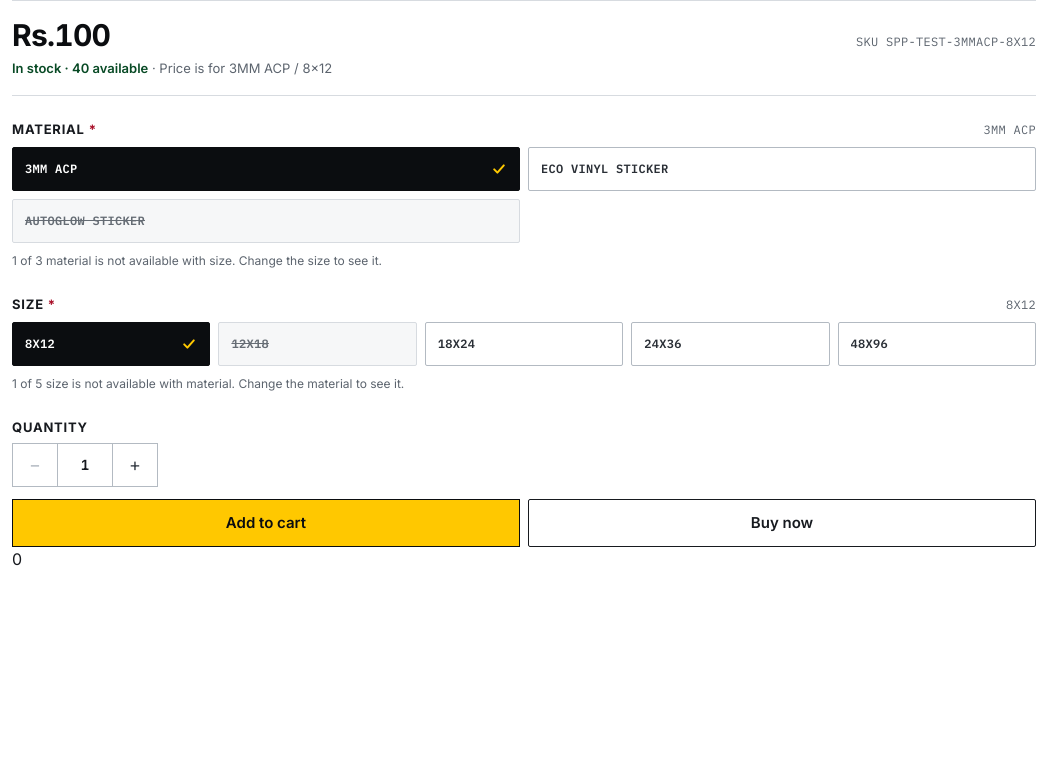
Test case: VariantSelector - add to cart › adds a quantity chosen with the stepper
Click the button named "Increase quantity". click: point(135, 465)
box: [113,444,157,486]
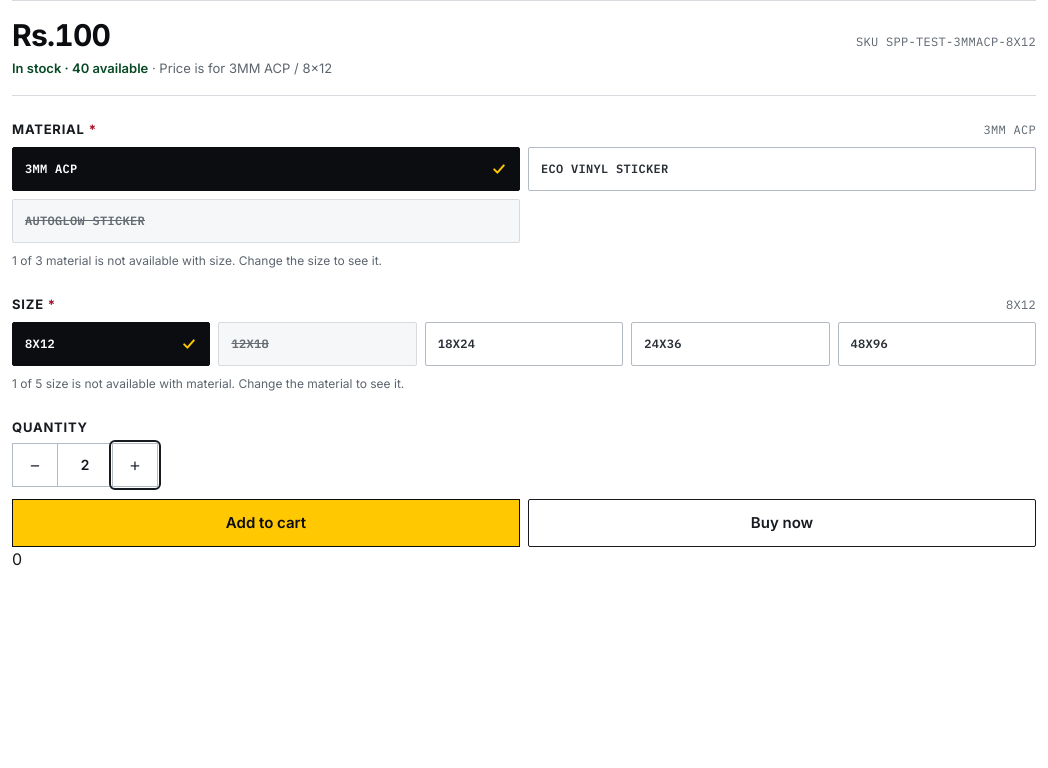
Click the button named "Increase quantity". click: point(135, 465)
box: [113,444,157,486]
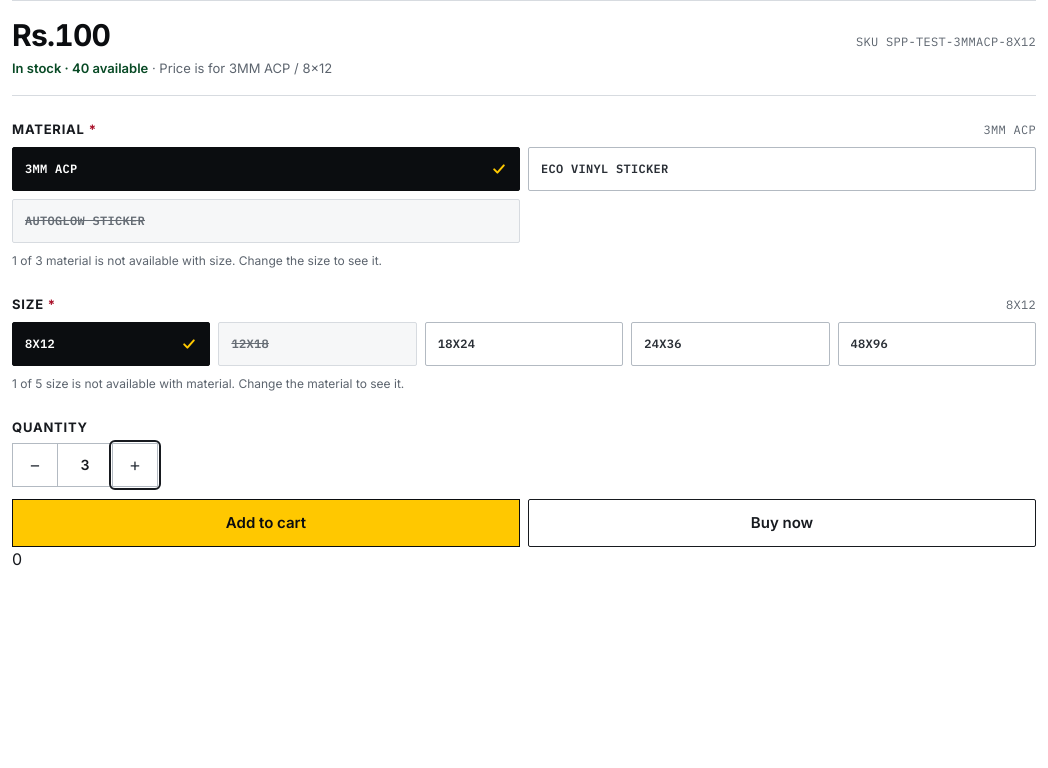
Click the button "Add to cart". click: point(266, 523)
box: [12,499,520,547]
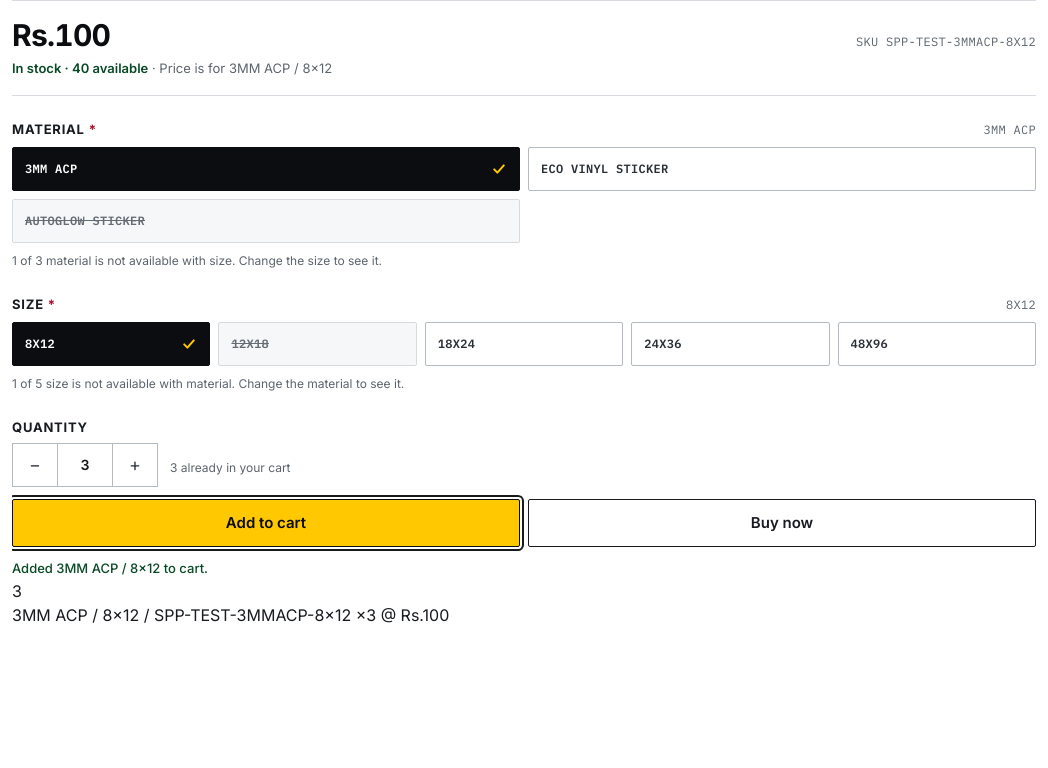
expect the list item with test id "cart-line" shows "x3": met, box [12,604,449,624]
